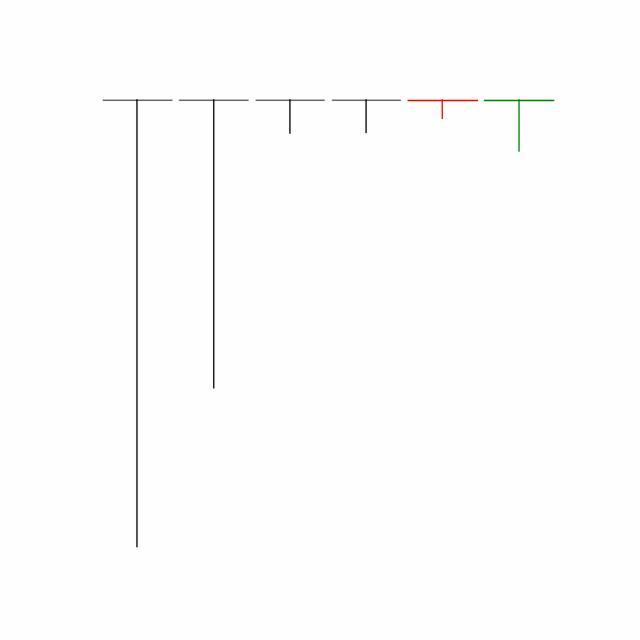Dragonfly Doji: (404, 100, 482, 122)
